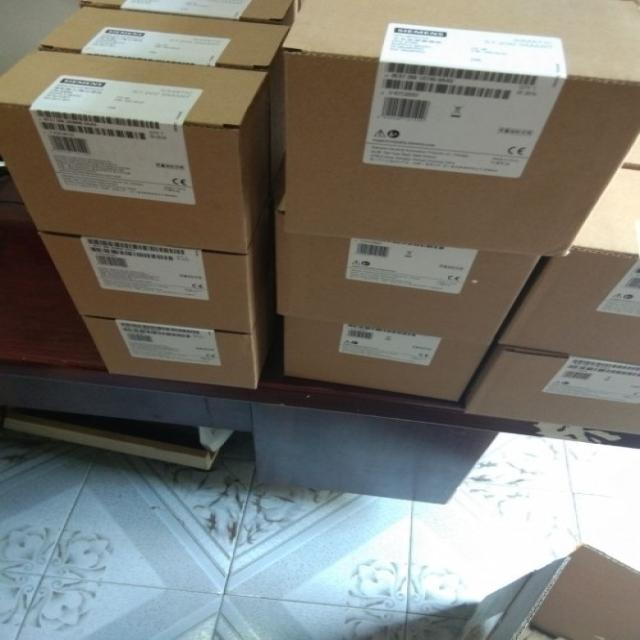box: (283, 0, 640, 258), (0, 50, 276, 254), (37, 8, 292, 174), (276, 196, 543, 344), (495, 166, 640, 367), (38, 233, 268, 333), (284, 316, 492, 403), (463, 347, 640, 436), (83, 316, 265, 390), (77, 0, 294, 25), (622, 135, 640, 169)
